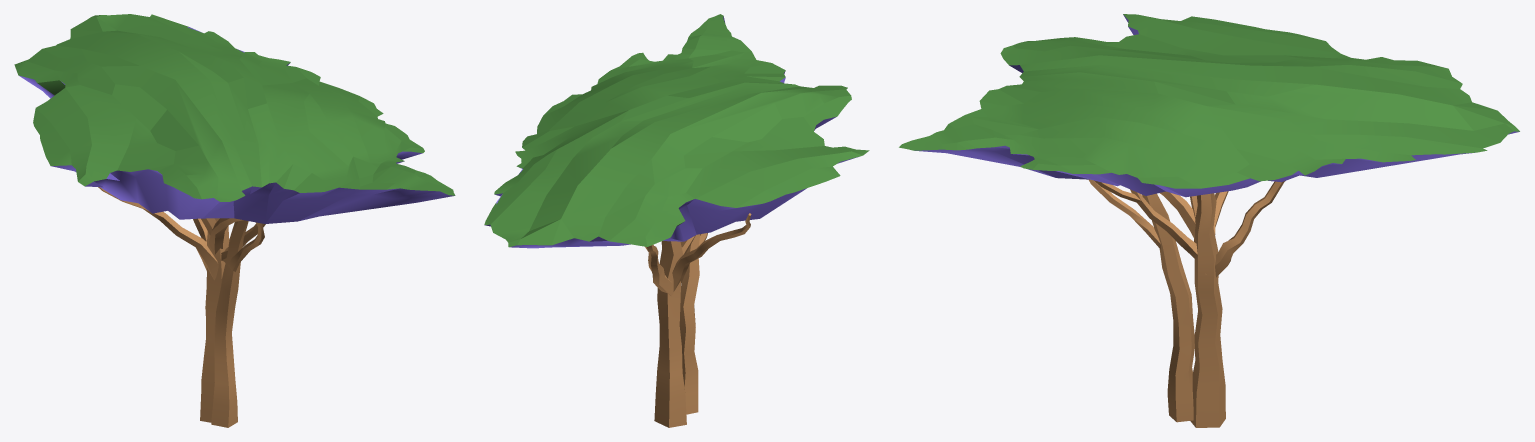
Rendered from tree_G_canopy_solo.fbx.
3 views of the same model, side by side, from view 1: azimuth 30°, elevation 25°; view 2: azimuth 150°, elevation 25°; view 3: azimuth 270°, elevation 25° (orthographic). The views are drawn at different scales.
Parts seen in each view (by area): view 1: tree_G_canopy_solo, tree_G_canopy_trunk_A1, tree_G_canopy_A_trunk_A, tree_G_canopy_F_trunk_F, tree_G_canopy_E_trunk_E, tree_G_canopy_F_trunk_F1; view 2: tree_G_canopy_solo, tree_G_canopy_A_trunk_A, tree_G_canopy_trunk_A1, tree_G_canopy_F_trunk_F, tree_G_canopy_C_trunk_C; view 3: tree_G_canopy_solo, tree_G_canopy_A_trunk_A, tree_G_canopy_trunk_A1, tree_G_canopy_C_trunk_C, tree_G_canopy_D_trunk_D, tree_G_canopy_F_trunk_F1, tree_G_canopy_E_trunk_E.
Boxes of the visible parts, x1,y1,x2,y2 form: tree_G_canopy_solo: [14, 14, 455, 223]; tree_G_canopy_trunk_A1: [211, 220, 248, 427]; tree_G_canopy_A_trunk_A: [200, 218, 229, 422]; tree_G_canopy_F_trunk_F: [98, 187, 218, 280]; tree_G_canopy_E_trunk_E: [209, 218, 243, 254]; tree_G_canopy_F_trunk_F1: [228, 222, 264, 271]; tree_G_canopy_solo: [484, 14, 869, 248]; tree_G_canopy_A_trunk_A: [654, 241, 686, 427]; tree_G_canopy_trunk_A1: [679, 234, 700, 414]; tree_G_canopy_F_trunk_F: [672, 213, 751, 291]; tree_G_canopy_C_trunk_C: [645, 244, 673, 296]; tree_G_canopy_solo: [899, 14, 1519, 197]; tree_G_canopy_A_trunk_A: [1190, 193, 1225, 427]; tree_G_canopy_trunk_A1: [1142, 193, 1194, 422]; tree_G_canopy_C_trunk_C: [1215, 181, 1285, 277]; tree_G_canopy_D_trunk_D: [1094, 180, 1197, 259]; tree_G_canopy_F_trunk_F1: [1089, 179, 1160, 249]; tree_G_canopy_E_trunk_E: [1159, 191, 1195, 240].
Size of the model in its own units: 602 by 595 by 969.
